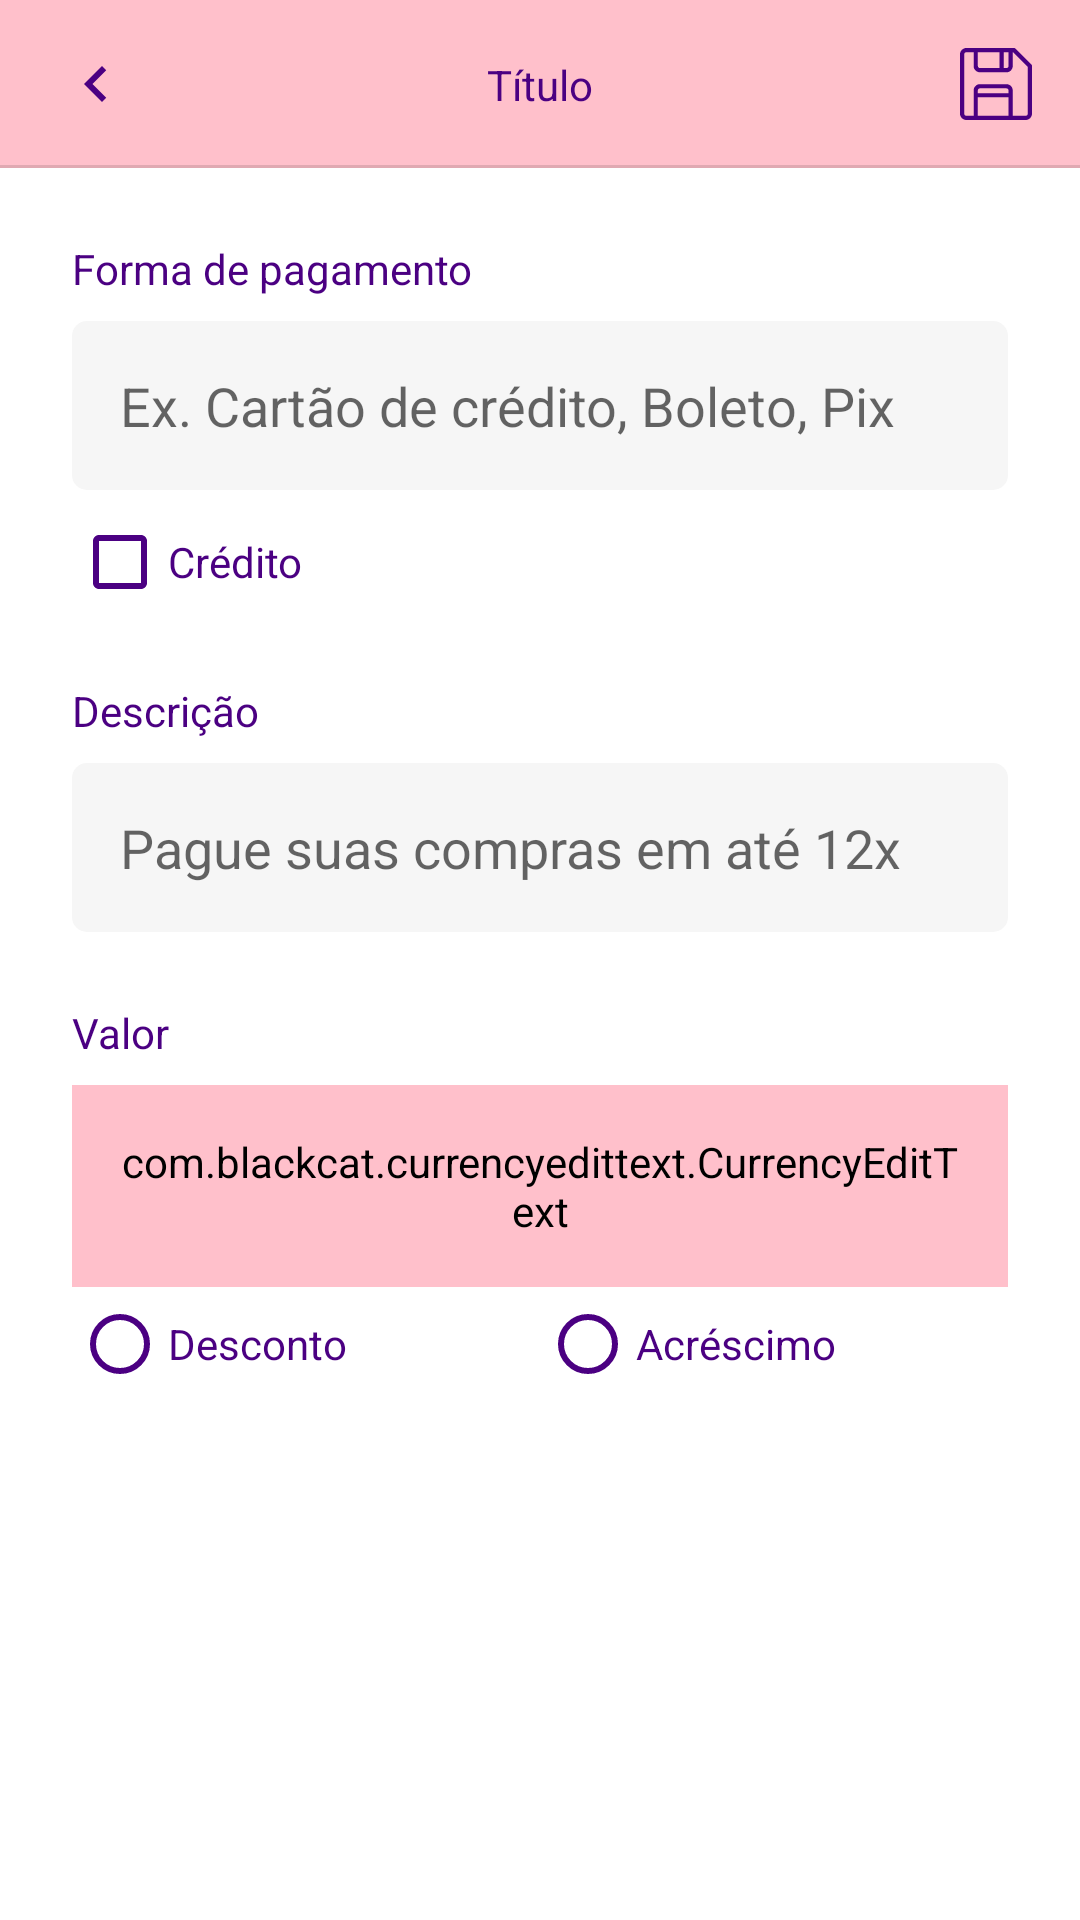

Icons on this 1080*1920 Android screen, each with its box as [x1=x1, y1=y1, x2=x2, y2=y2]:
voltar: [x1=84, y1=66, x2=106, y2=102]
